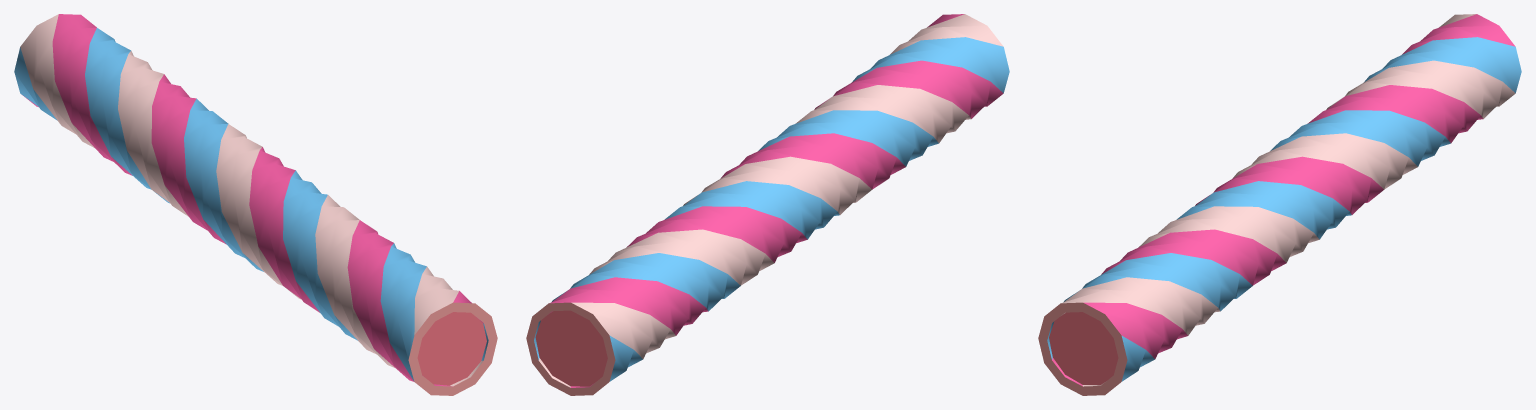
Rendered from Wafer Roll Blue.fbx.
3 renders of one model, left to right at view 1: azimuth 30°, elevation 25°; view 2: azimuth 150°, elevation 25°; view 3: azimuth 330°, elevation 25°, orthographic.
Visible parts, largest first — view 1: Wafer Roll Blue; view 2: Wafer Roll Blue; view 3: Wafer Roll Blue.
Part boxes in pixels (x1,y1,x2,y2): Wafer Roll Blue: [14, 14, 497, 395]; Wafer Roll Blue: [526, 14, 1009, 395]; Wafer Roll Blue: [1038, 14, 1521, 395].
Size of the model in its own units: 0.1 by 0.1 by 0.7649.
